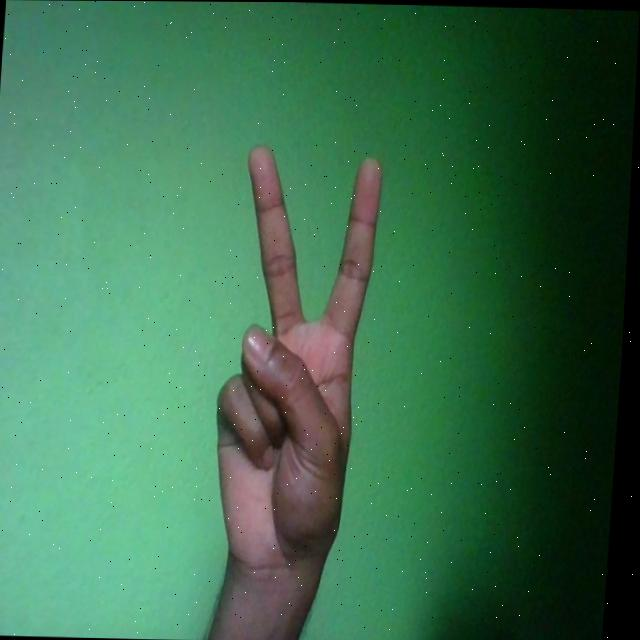Peace: (211, 141, 387, 578)
